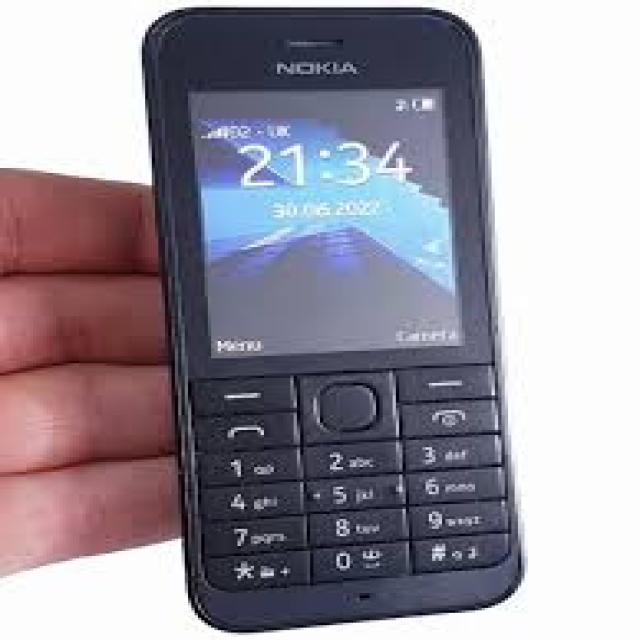mobile phone: (135, 2, 528, 632)
